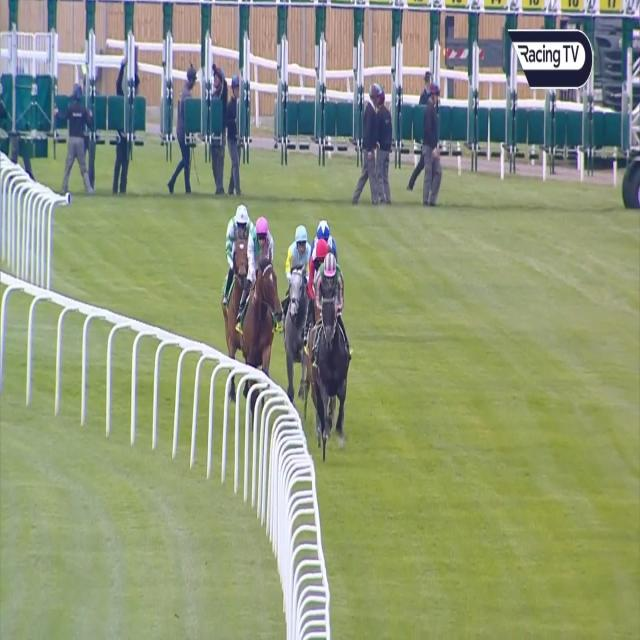horses-racing: (308, 251, 351, 448), (244, 216, 276, 373), (222, 204, 252, 348), (284, 223, 309, 376), (307, 238, 332, 300), (316, 219, 336, 249)
